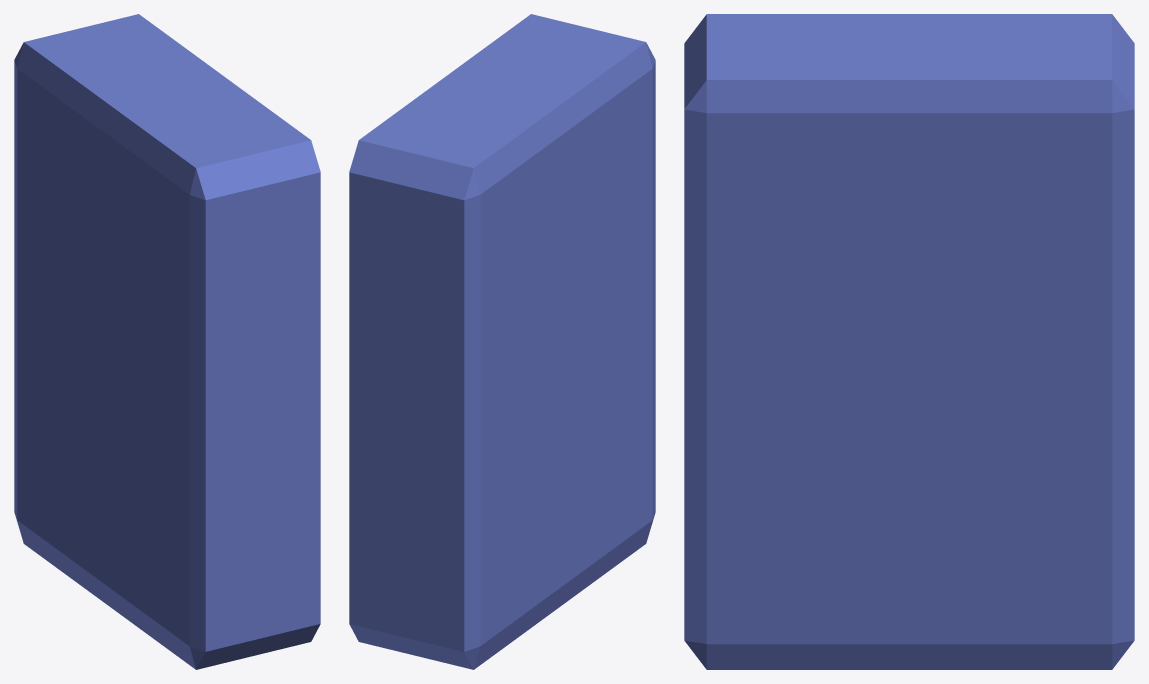
File: macaroni.fbx
3 views of the same model, side by side, from view 1: azimuth 30°, elevation 25°; view 2: azimuth 150°, elevation 25°; view 3: azimuth 270°, elevation 25° (orthographic). The views are drawn at different scales.
Visible parts, largest first — view 1: Cube; view 2: Cube; view 3: Cube.
Part boxes in pixels (x1,y1,x2,y2): Cube: (14, 14, 320, 669); Cube: (349, 14, 655, 669); Cube: (684, 14, 1134, 669).
Bounding box in the file's own units: 127 × 475 × 329.
